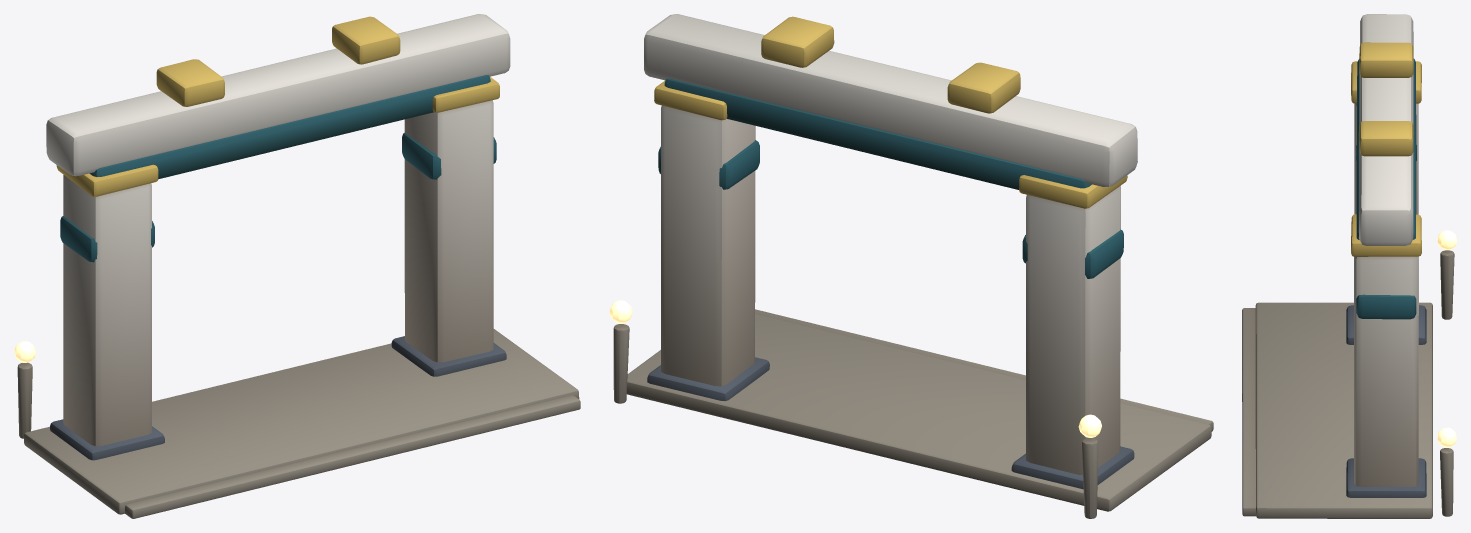
3 views of the same model, side by side, from view 1: azimuth 30°, elevation 25°; view 2: azimuth 150°, elevation 25°; view 3: azimuth 270°, elevation 25° (orthographic). The views are drawn at different scales.
Parts seen in each view (by area): view 1: gate_5d8fd154; view 2: gate_5d8fd154; view 3: gate_5d8fd154.
Part boxes in pixels (x1=…): gate_5d8fd154: x1=14, y1=14, x2=580, y2=518; gate_5d8fd154: x1=609, y1=14, x2=1213, y2=518; gate_5d8fd154: x1=1242, y1=14, x2=1456, y2=518.
Bounding box in the file's own units: 5.8 × 4.29 × 2.55.
